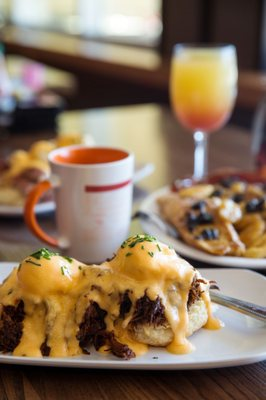pizza: (22, 144, 136, 264)
soup: (0, 233, 211, 360)
